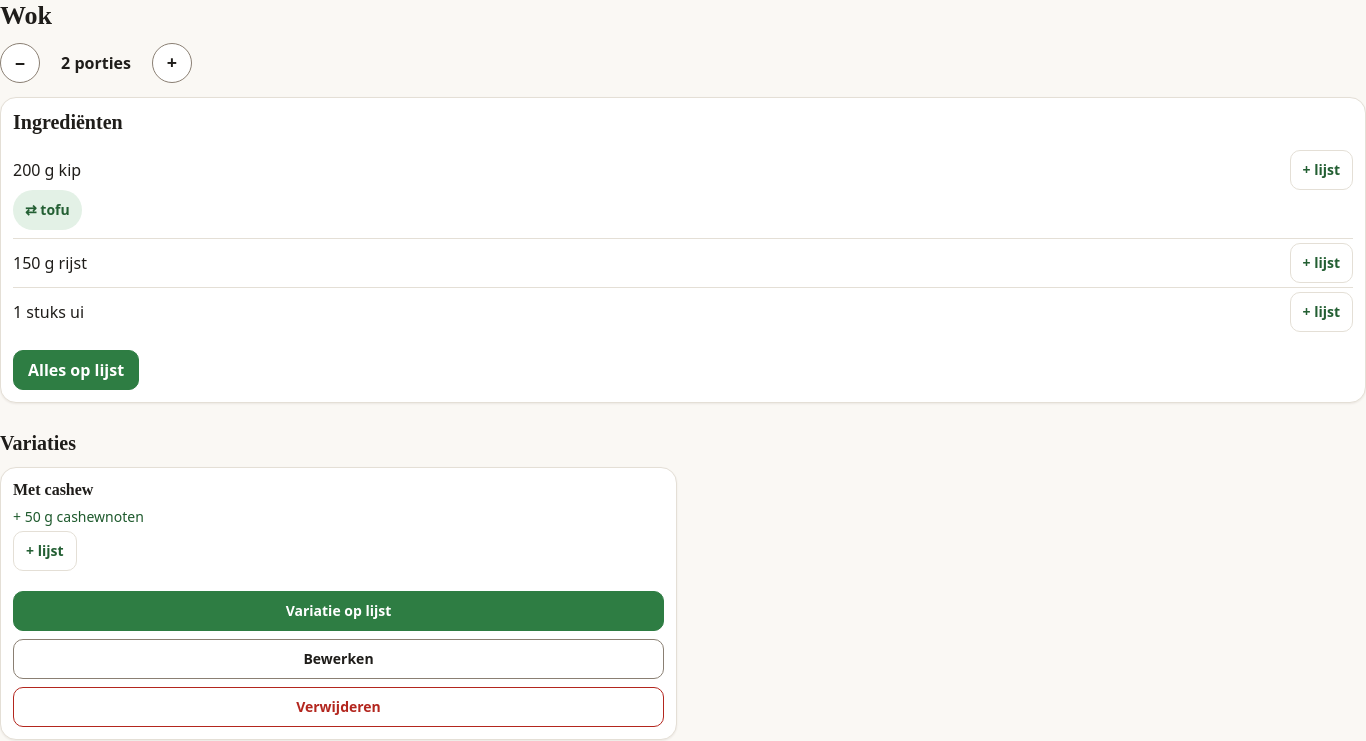
RecipeDetailView: wat al op de boodschappenlijst staat › een toevoeging van een variatie heeft dezelfde knop
This screenshot has width=1366, height=741.
Click the button with class "list-button" below "+ 50 g cashewnoten": (45, 551) [13,531,76,571]
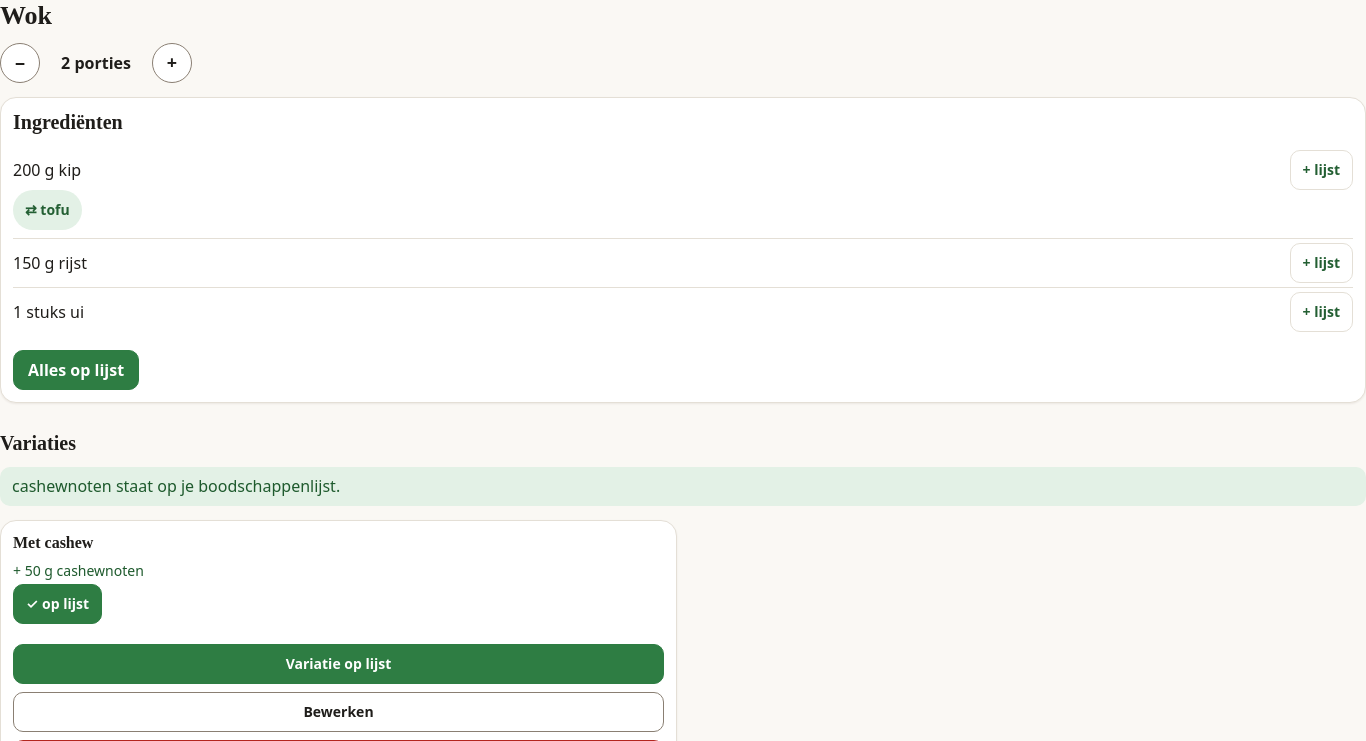
Expected: the button with class "list-button" reads "✓ op lijst", [13,584,102,624]
